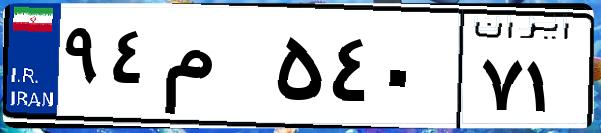0: (385, 28, 445, 110)
1: (525, 38, 570, 115)
4: (330, 28, 385, 110), (110, 28, 158, 98)
5: (270, 28, 330, 110)
7: (475, 38, 525, 113)
9: (57, 26, 110, 100)
م: (158, 20, 270, 120)
